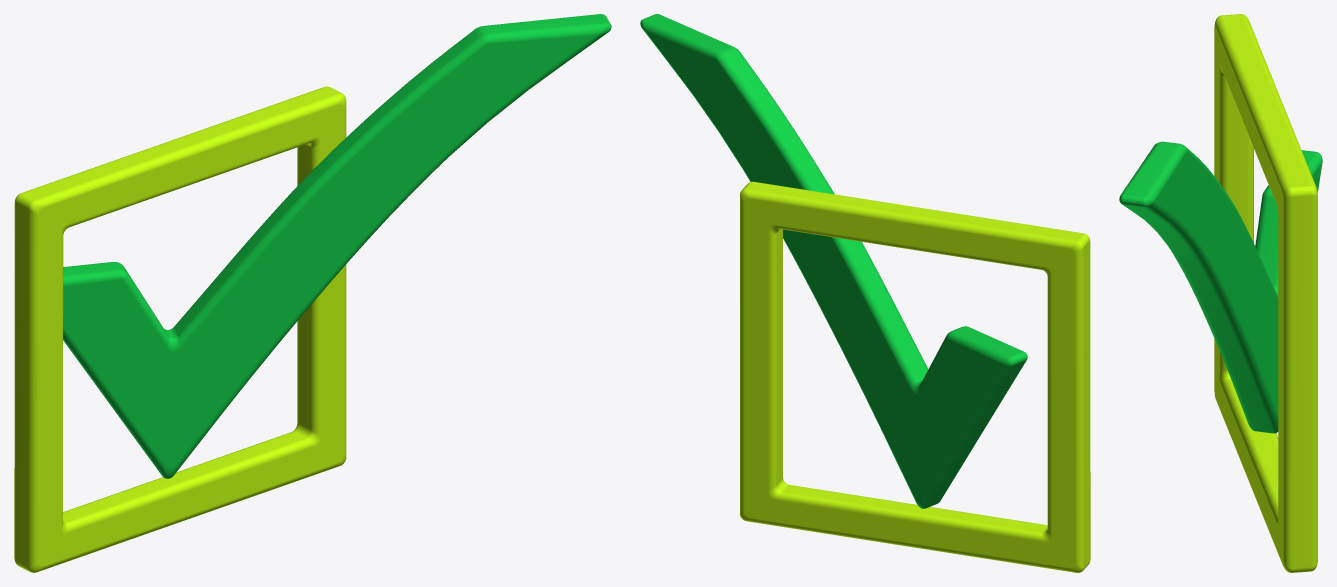
The model's file is pass.glb.
The picture shows the model from 3 angles, left to right: view 1: azimuth 30°, elevation 25°; view 2: azimuth 150°, elevation 25°; view 3: azimuth 270°, elevation 25°; orthographic projection. The views are drawn at different scales.
Visible parts, largest first — view 1: node_id30; view 2: node_id30; view 3: node_id30.
Boxes of the visible parts, bbox=[...] form: node_id30: bbox=[14, 14, 611, 572]; node_id30: bbox=[640, 14, 1090, 572]; node_id30: bbox=[1119, 14, 1322, 572].
Size of the model in its own units: 0.6197 by 0.4974 by 0.1935.
1 material, 1 textured.
